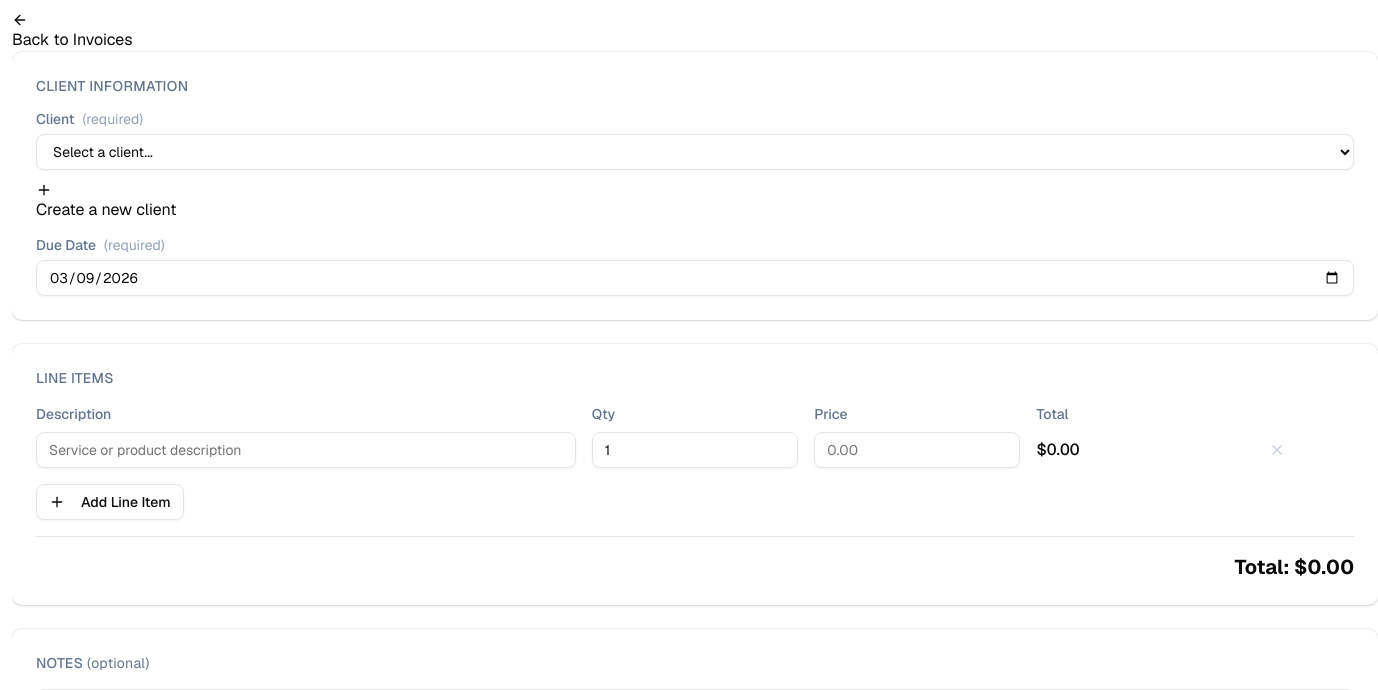
Test: InvoiceForm › line items › can add a new line item
Click the button "Add Line Item".
click(110, 502)  # box [36,484,184,520]
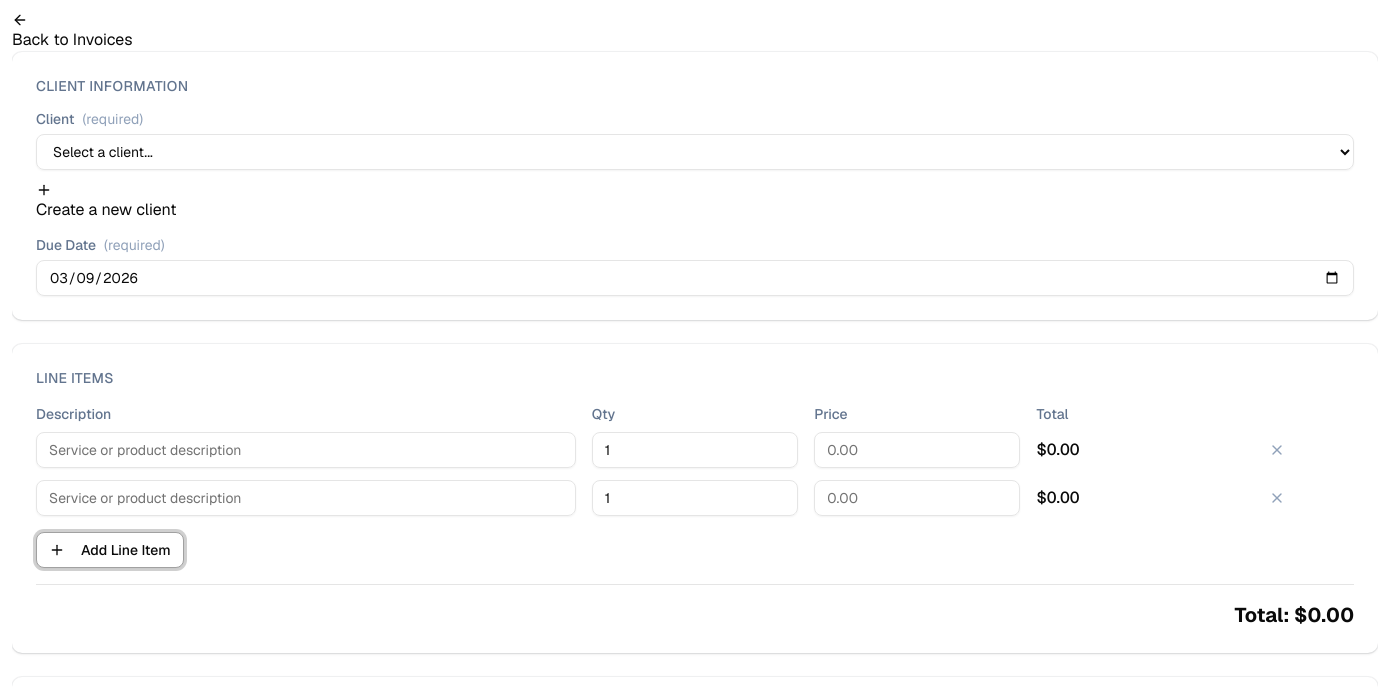
Result: the number of fields with placeholder "service or product" is 4
